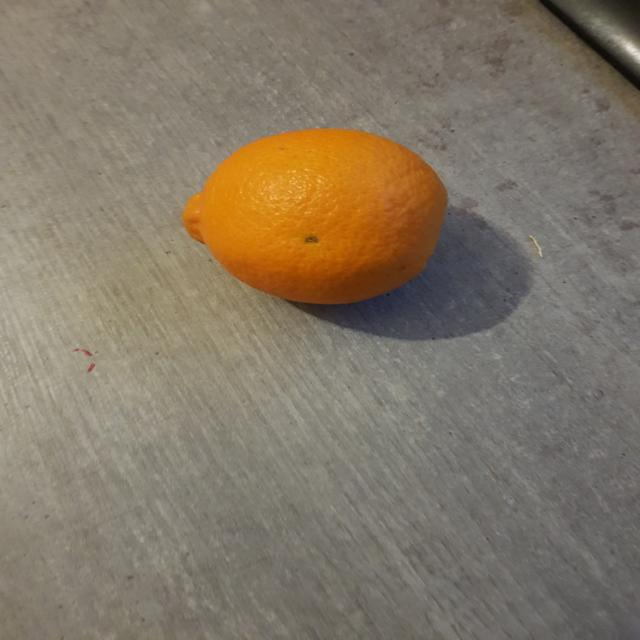Orange: (181, 129, 448, 304)
